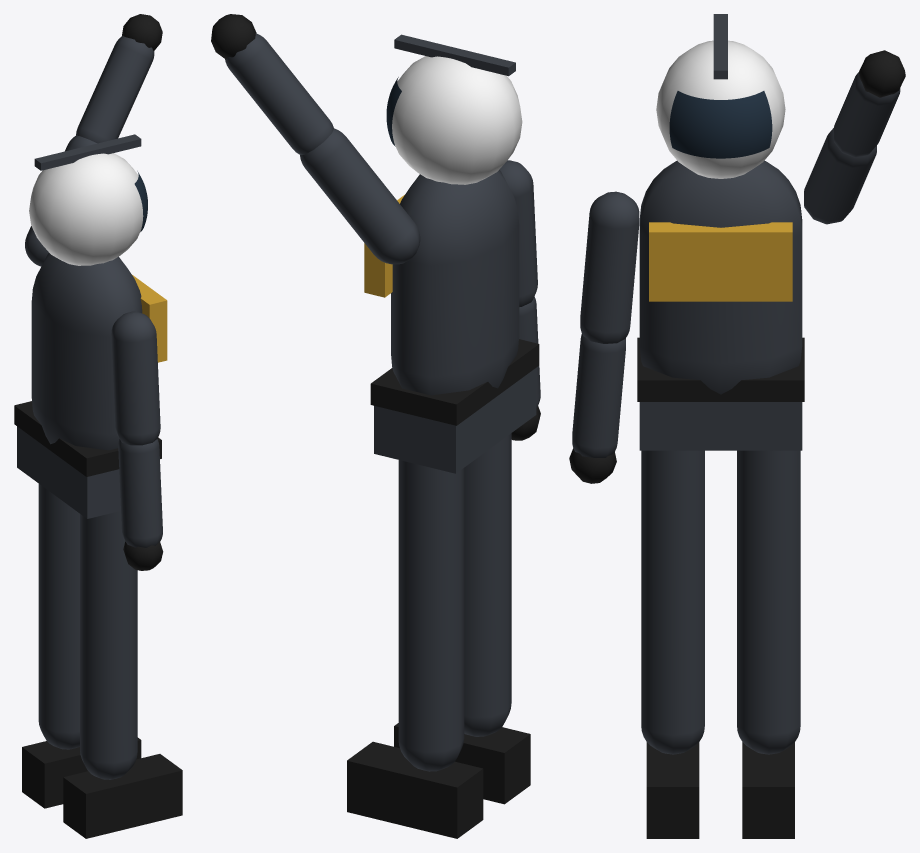
File: pilot_point.glb
3 views of the same model, side by side, from view 1: azimuth 30°, elevation 25°; view 2: azimuth 150°, elevation 25°; view 3: azimuth 270°, elevation 25° (orthographic). The views are drawn at different scales.
Visible parts, largest first — view 1: pilot_point, object 2, object 4, object 3, object 5; view 2: pilot_point, object 2, object 3, object 4; view 3: pilot_point, object 4, object 2, object 3, object 5.
Part boxes in pixels (bbox=[...]): pilot_point: bbox=[14, 134, 182, 838]; object 2: bbox=[76, 36, 154, 143]; object 4: bbox=[118, 439, 162, 547]; object 3: bbox=[122, 14, 162, 50]; object 5: bbox=[123, 541, 163, 570]; pilot_point: bbox=[300, 34, 539, 838]; object 2: bbox=[225, 33, 333, 154]; object 3: bbox=[211, 14, 256, 59]; object 4: bbox=[519, 296, 540, 408]; pilot_point: bbox=[580, 14, 876, 838]; object 4: bbox=[572, 334, 625, 457]; object 2: bbox=[834, 72, 900, 157]; object 3: bbox=[859, 50, 905, 97]; object 5: bbox=[569, 448, 616, 483].
Bounding box in the file's own units: 0.5425 × 1.9 × 0.7048.
